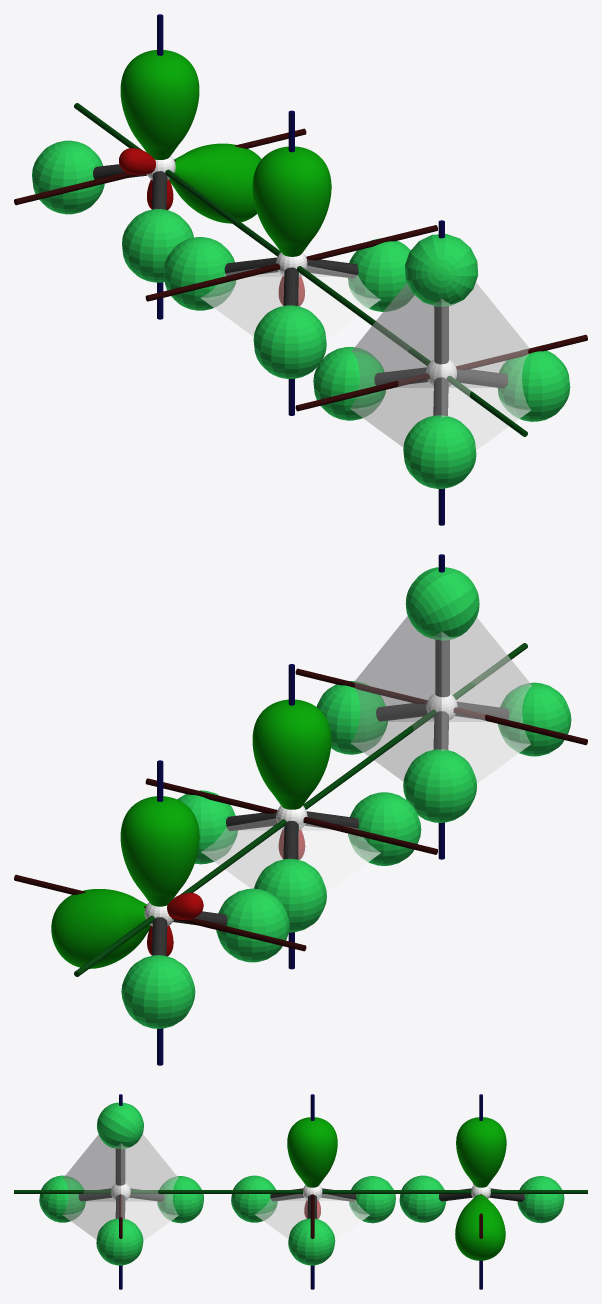
Rendered from hibridaciones_sp32.obj.
3 views of the same model, one above another, from view 1: azimuth 30°, elevation 25°; view 2: azimuth 150°, elevation 25°; view 3: azimuth 270°, elevation 25° (orthographic). The views are drawn at different scales.
Visible parts, largest first — view 1: Solid, Sphere.015_Sphere.043, Sphere.016_Sphere.044, Solid.001, Sphere.021_Sphere.052, ShapeCylinder.002, ShapeSphere.008_ShapeSphere.010, ShapeSphere.006, ShapeSphere.009_ShapeSphere.011, ShapeSphere.015, ShapeSphere.004, ShapeSphere.010_ShapeSphere.012 (+8 smaller); view 2: Solid, Sphere.016_Sphere.044, Sphere.015_Sphere.043, Solid.001, Sphere.021_Sphere.052, ShapeCylinder.002, ShapeSphere.015, ShapeSphere.010_ShapeSphere.012, ShapeSphere.013, ShapeSphere.008_ShapeSphere.010, ShapeSphere.006, ShapeSphere.009_ShapeSphere.011 (+8 smaller); view 3: Solid, Solid.001, Sphere.016_Sphere.044, Sphere.015_Sphere.043, Sphere.021_Sphere.052, ShapeCylinder.002, ShapeSphere.009_ShapeSphere.011, ShapeSphere.005, ShapeSphere.015, ShapeSphere.013, ShapeSphere.006, ShapeSphere.004 (+5 smaller).
Part boxes in pixels (bbox=[...]): Solid: bbox=[350, 282, 530, 450]; Sphere.015_Sphere.043: bbox=[252, 146, 331, 256]; Sphere.016_Sphere.044: bbox=[120, 50, 199, 159]; Solid.001: bbox=[201, 266, 380, 339]; Sphere.021_Sphere.052: bbox=[169, 143, 261, 223]; ShapeCylinder.002: bbox=[405, 234, 478, 364]; ShapeSphere.008_ShapeSphere.010: bbox=[403, 415, 476, 488]; ShapeSphere.006: bbox=[253, 305, 326, 378]; ShapeSphere.009_ShapeSphere.011: bbox=[497, 350, 570, 421]; ShapeSphere.015: bbox=[32, 140, 104, 214]; ShapeSphere.004: bbox=[163, 237, 236, 310]; ShapeSphere.010_ShapeSphere.012: bbox=[313, 347, 385, 420]; Solid: bbox=[351, 616, 531, 783]; Sphere.016_Sphere.044: bbox=[120, 796, 199, 906]; Sphere.015_Sphere.043: bbox=[252, 699, 331, 809]; Solid.001: bbox=[201, 818, 380, 891]; Sphere.021_Sphere.052: bbox=[51, 889, 150, 968]; ShapeCylinder.002: bbox=[405, 567, 479, 697]; ShapeSphere.015: bbox=[121, 955, 195, 1028]; ShapeSphere.010_ShapeSphere.012: bbox=[403, 749, 476, 822]; ShapeSphere.013: bbox=[216, 888, 289, 962]; ShapeSphere.008_ShapeSphere.010: bbox=[498, 682, 571, 756]; ShapeSphere.006: bbox=[348, 792, 421, 865]; ShapeSphere.009_ShapeSphere.011: bbox=[316, 681, 387, 754]; Solid: bbox=[63, 1134, 178, 1240]; Solid.001: bbox=[255, 1194, 369, 1239]; Sphere.016_Sphere.044: bbox=[456, 1117, 506, 1187]; Sphere.015_Sphere.043: bbox=[287, 1117, 337, 1187]; Sphere.021_Sphere.052: bbox=[455, 1194, 505, 1260]; ShapeCylinder.002: bbox=[97, 1102, 143, 1185]; ShapeSphere.009_ShapeSphere.011: bbox=[96, 1218, 143, 1265]; ShapeSphere.005: bbox=[288, 1218, 335, 1265]; ShapeSphere.015: bbox=[517, 1176, 564, 1223]; ShapeSphere.013: bbox=[399, 1175, 446, 1222]; ShapeSphere.006: bbox=[231, 1175, 277, 1222]; ShapeSphere.004: bbox=[349, 1176, 395, 1223].
Size of the model in its own units: 12.54 by 12.54 by 33.68.
